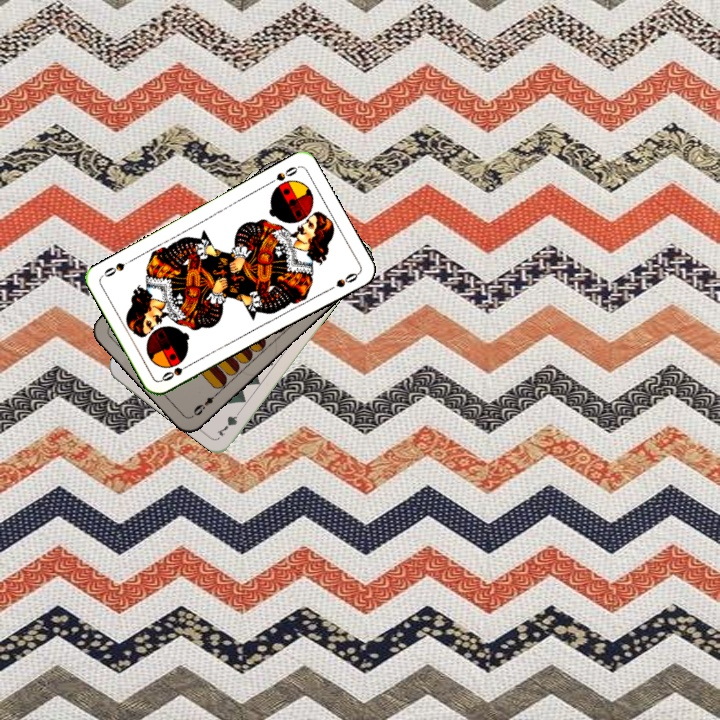E9: (188, 388, 221, 419)
G7: (213, 404, 245, 439)
SO: (157, 359, 195, 384), (264, 162, 301, 187)
